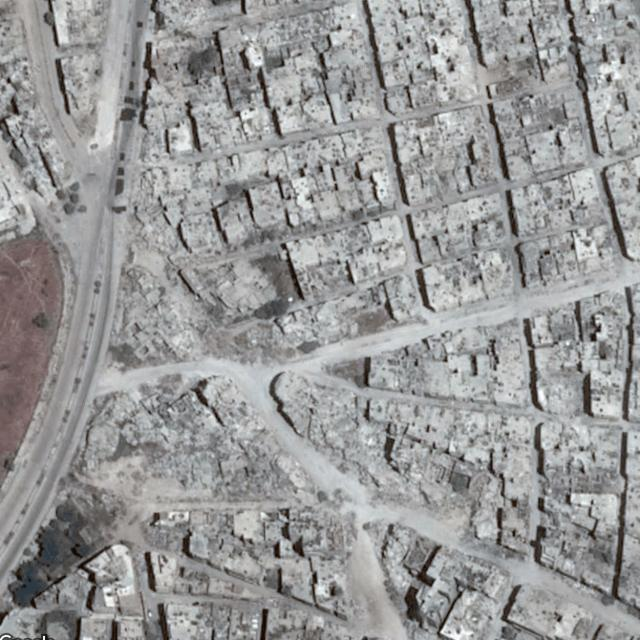damaged_building: (109, 126, 390, 366), (270, 370, 500, 541), (70, 371, 313, 506), (364, 516, 440, 616), (286, 499, 356, 567), (152, 0, 243, 48)
